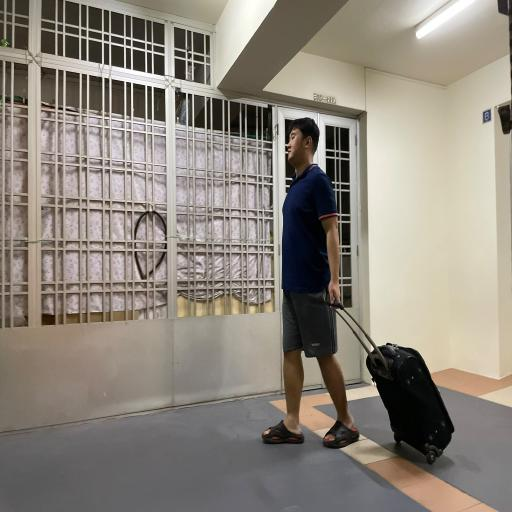person_left: (258, 116, 460, 478)
